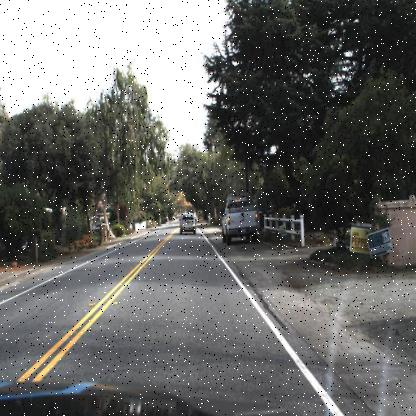car: (220, 197, 258, 239), (177, 212, 197, 235)
